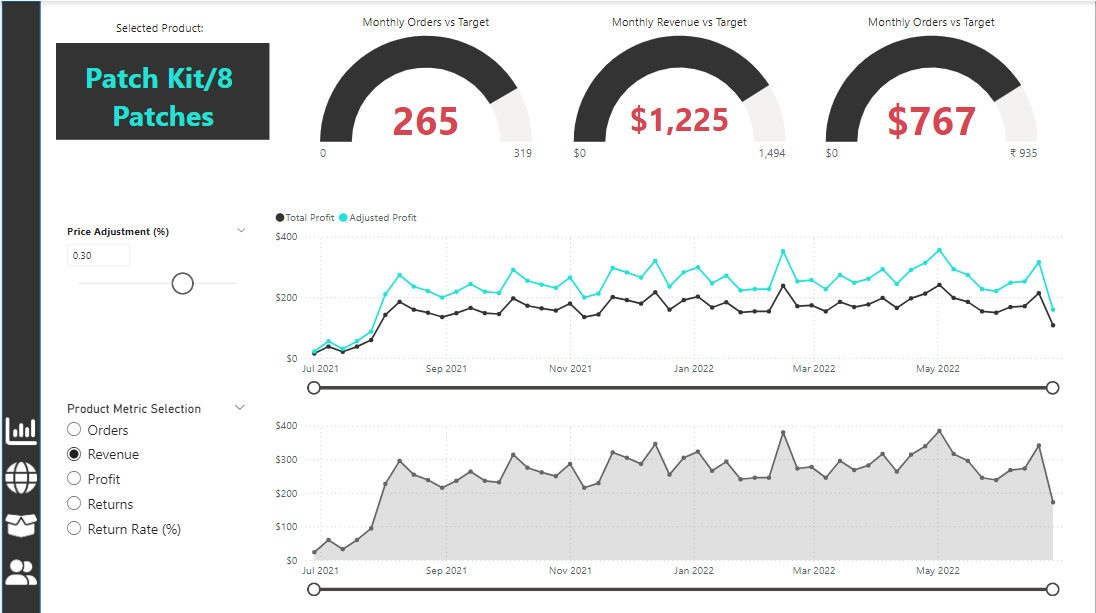

The dashboard page shown, as its layout file describes it:
{"tool":"powerbi","page":{"name":"Product Detail","canvas":[1280,720],"ordinal":2},"visuals":[{"type":"shape","box":[0,0,45,720],"z":0},{"type":"actionButton","box":[0,481.7,90,45],"z":0,"group":"g1"},{"type":"gauge","title":"Monthly Orders vs Target","fields":{"Y":["Measure Table.Total Orders"],"MaxValue":["Measure Table.Order Target"]},"box":[366.7,13.3,258.3,186.7],"z":1000},{"type":"actionButton","box":[0,536.7,90,45],"z":1000,"group":"g1"},{"type":"gauge","title":"Monthly Revenue vs Target","fields":{"Y":["Measure Table.Total Revenue"],"MaxValue":["Measure Table.Revenue Target"]},"box":[663.3,13.3,258.3,186.7],"z":2000},{"type":"actionButton","box":[0,591.7,90,45],"z":2000,"group":"g1"},{"type":"gauge","title":"Monthly Orders vs Target","fields":{"Y":["Measure Table.Total Profit"],"MaxValue":["Measure Table.Profit Target"]},"box":[960,13.3,258.3,186.7],"z":3000},{"type":"actionButton","box":[0,646.7,90,45],"z":3000,"group":"g1"},{"type":"lineChart","title":"Profit Trendline","fields":{"Category":["Calendar Lookup.Date Hierarchy.Start of Year","Calendar Lookup.Date Hierarchy.Start of Month","Calendar Lookup.Date Hierarchy.Start of Week","Calendar Lookup.Date Hierarchy.Date"],"Y":["Measure Table.Total Profit","Measure Table.Adjusted Profit"]},"box":[314.3,234.3,947.1,230],"z":4000},{"type":"areaChart","title":"Returns Trendline","fields":{"Y":["Measure Table.Total Orders"],"Category":["Calendar Lookup.Date Hierarchy.Start of Year","Calendar Lookup.Date Hierarchy.Start of Month","Calendar Lookup.Date Hierarchy.Start of Week","Calendar Lookup.Date Hierarchy.Date"]},"box":[314.3,482.9,947.1,217.1],"z":5000},{"type":"card","fields":{"Values":["Min(Product Lookup.ProductName)"]},"box":[63.3,50,250,113.3],"z":6000},{"type":"textbox","box":[56.7,16.7,256.7,33.3],"z":7000},{"type":"group","id":"g1","title":"Navigation Button","box":[0,481.7,90,210],"z":8000},{"type":"slicer","fields":{"Values":["Price Adjustment (%).Price Adjustment (%)"]},"box":[62.9,255.7,234.3,132.9],"z":9000},{"type":"slicer","fields":{"Values":["Product Metric Selection.Product Metric Selection"]},"box":[62.9,464.3,234.3,235.7],"z":10000}]}

Visuals, with their boxes on the page's 1280x720 design canvas (x1, y1, x2, y2). These are canvas units, not pixel positions in the 1096x613 screenshot, which may show the page scaled, cropped or inside an application window:
shape: (0, 0, 45, 720)
actionButton: (0, 482, 90, 527)
"Monthly Orders vs Target" gauge: (367, 13, 625, 200)
actionButton: (0, 537, 90, 582)
"Monthly Revenue vs Target" gauge: (663, 13, 922, 200)
actionButton: (0, 592, 90, 637)
"Monthly Orders vs Target" gauge: (960, 13, 1218, 200)
actionButton: (0, 647, 90, 692)
"Profit Trendline" lineChart: (314, 234, 1261, 464)
"Returns Trendline" areaChart: (314, 483, 1261, 700)
card - Min(Product Lookup.ProductName): (63, 50, 313, 163)
textbox: (57, 17, 313, 50)
"Navigation Button" group: (0, 482, 90, 692)
slicer - Price Adjustment (%).Price Adjustment (%): (63, 256, 297, 389)
slicer - Product Metric Selection.Product Metric Selection: (63, 464, 297, 700)
